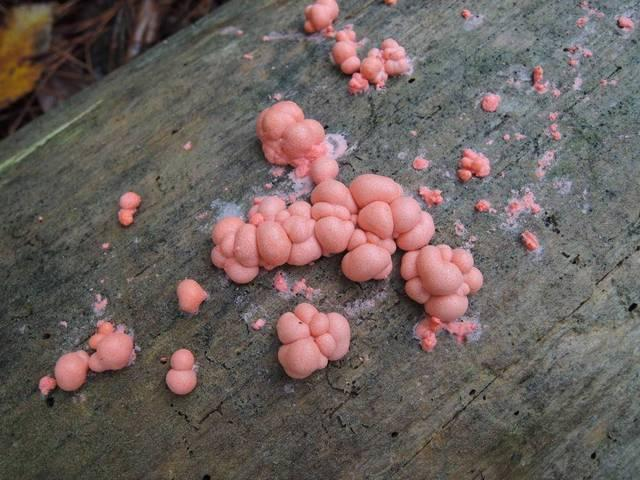poisonous_mushroom: (207, 98, 484, 373), (400, 242, 483, 322), (274, 301, 351, 379), (255, 99, 331, 178), (87, 330, 133, 372), (164, 347, 198, 395), (53, 349, 89, 391), (175, 277, 208, 314), (168, 347, 195, 370)
